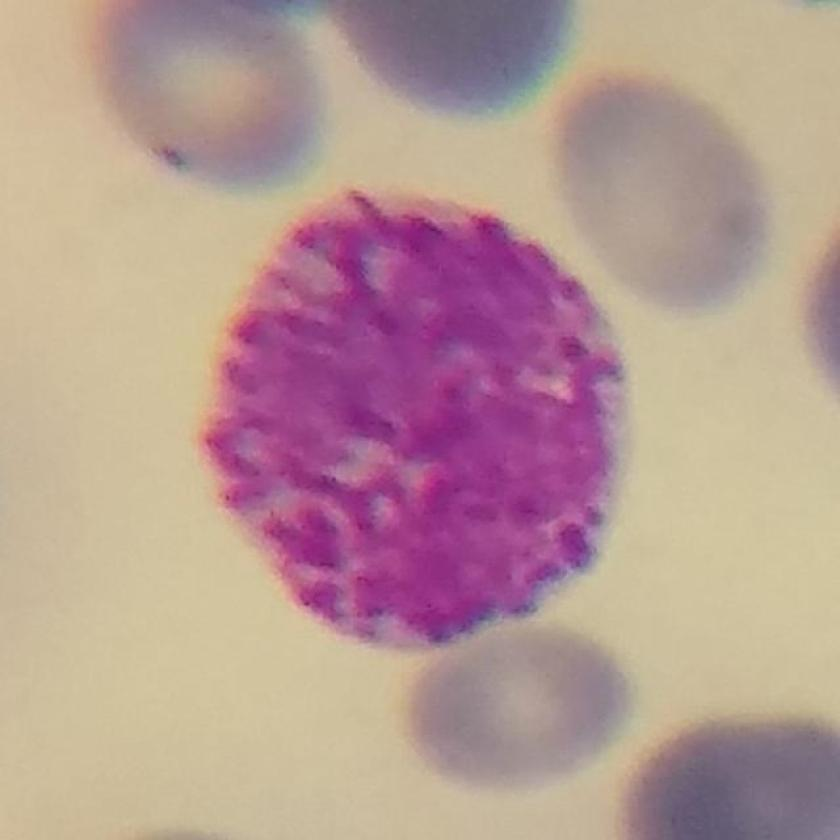basophil: (201, 186, 631, 656)
